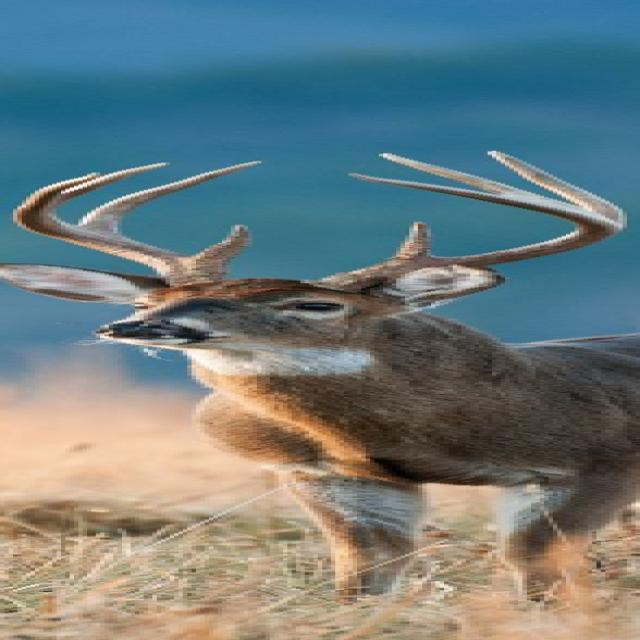L-F: (297, 172, 628, 296)
L-G1: (384, 220, 438, 262)
L-G2: (484, 149, 628, 226)
L-G3: (378, 152, 540, 194)
R-F: (11, 171, 229, 287)
R-G1: (190, 223, 254, 266)
R-G2: (78, 159, 264, 236)
